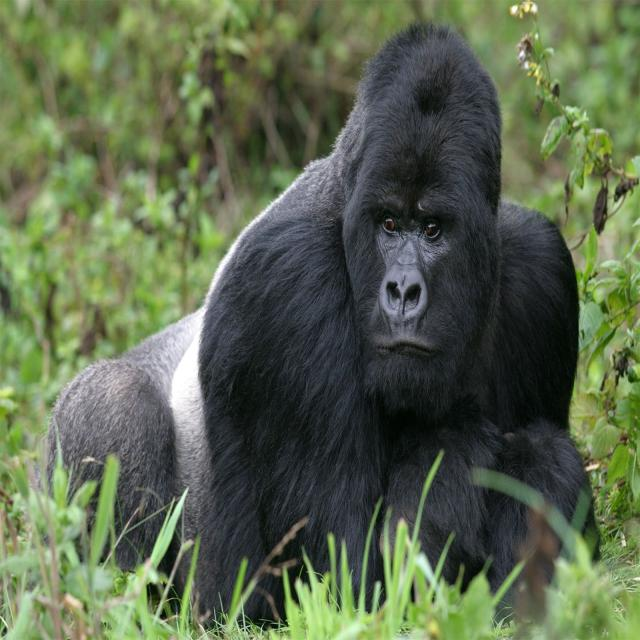Gorilla: (50, 26, 601, 605)
